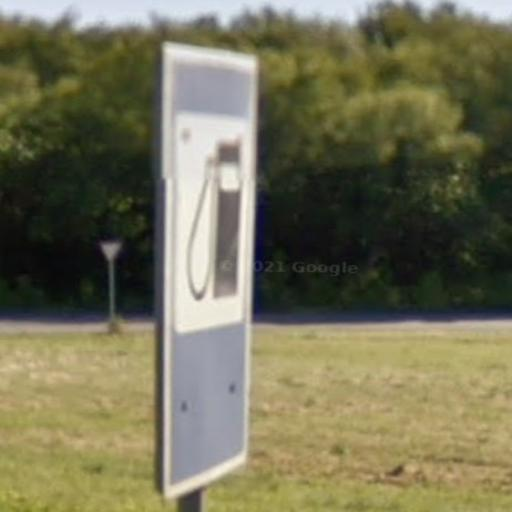traffic_sign: (161, 39, 258, 501), (100, 242, 124, 263)
